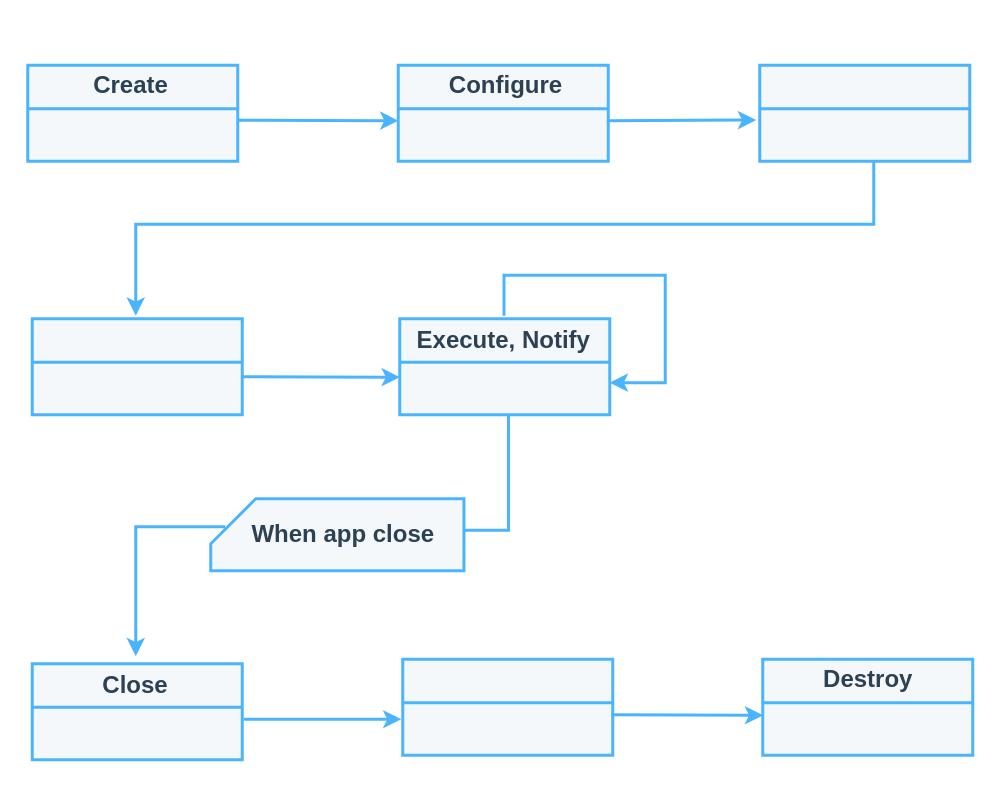
Some shapes in this 1001 by 788 pixel diagram are drawn without their labels. The centre of each missing label's shape, as x and y in pixels:
"Open" belongs at [136,366].
"Set references" belongs at [864,112].
"Un reference" belongs at [507,706].
